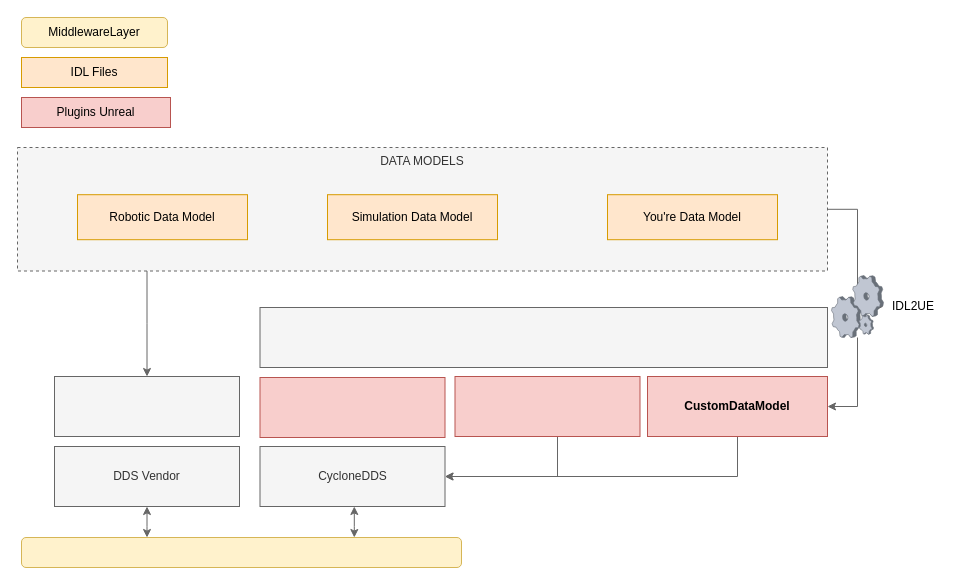
This 961x585 diagram has some shape labels left out. The centre of each missing label's shape, as x and y in pixels:
DDS: the point at 241,552
Morse: the point at 352,407
MorseDataModel: the point at 547,406
UE5 User Code (C++ & BP): the point at 543,337
UserCode: the point at 147,406
